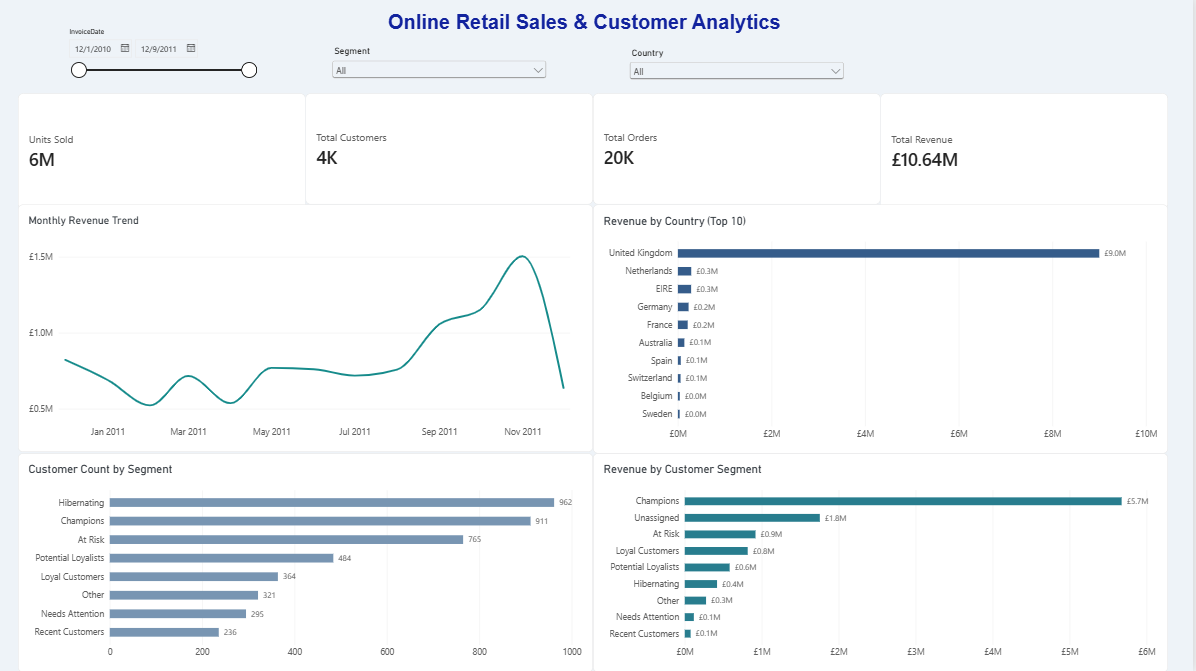

The page's visual inventory and layout, read from the dashboard file:
{"tool":"powerbi","page":{"name":"Page 1","canvas":[1920,1080],"ordinal":0},"visuals":[{"type":"cardVisual","fields":{"Data":["sales_clean.Total Revenue"]},"box":[1420,154,460,186],"z":0},{"type":"cardVisual","fields":{"Data":["sales_clean.Units Sold"]},"box":[40,154,460,186],"z":1000},{"type":"cardVisual","fields":{"Data":["sales_clean.Total Orders"]},"box":[960,154,460,178],"z":2000},{"type":"cardVisual","fields":{"Data":["sales_clean.Total Customers"]},"box":[500,154,460,178],"z":3000},{"type":"lineChart","title":"Monthly Revenue Trend","fields":{"Category":["sales_clean.InvoiceDate.Variation.Date Hierarchy.Year","sales_clean.InvoiceDate.Variation.Date Hierarchy.Month"],"Y":["sales_clean.Total Revenue"]},"box":[40,332,920,396],"z":4000},{"type":"clusteredBarChart","title":"Revenue by Country (Top 10)","fields":{"Category":["sales_clean.Country"],"Y":["sales_clean.Total Revenue"]},"box":[960,332,920,398],"z":5000},{"type":"clusteredBarChart","title":"Customer Count by Segment","fields":{"Category":["customer_rfm.Segment"],"Y":["sales_clean.Customer Count (Filtered)"]},"box":[40,730,920,350],"z":6000},{"type":"clusteredBarChart","title":"Revenue by Customer Segment","fields":{"Category":["sales_clean.Customer Segment"],"Y":["sales_clean.Total Revenue"]},"box":[960,730,920,350],"z":7000},{"type":"textbox","box":[100,0,12,22],"z":8000},{"type":"textbox","box":[576,22,740,132],"z":9000},{"type":"slicer","fields":{"Values":["sales_clean.Country"]},"box":[1014,80,352,62],"z":10000},{"type":"slicer","fields":{"Values":["rfm_segment_summary.Segment"]},"box":[538,78,352,68],"z":11000},{"type":"slicer","fields":{"Values":["sales_clean.InvoiceDate"]},"box":[114,48,312,98],"z":12000}]}

Visuals, with their boxes in screenshot pixels (x1, y1, x2, y2), scaled from the page's 1920x1080 canvas onto the 1196x671 screenshot:
cardVisual - sales_clean.Total Revenue: crop(885, 96, 1171, 211)
cardVisual - sales_clean.Units Sold: crop(25, 96, 311, 211)
cardVisual - sales_clean.Total Orders: crop(598, 96, 885, 206)
cardVisual - sales_clean.Total Customers: crop(311, 96, 598, 206)
"Monthly Revenue Trend" lineChart: crop(25, 206, 598, 452)
"Revenue by Country (Top 10)" clusteredBarChart: crop(598, 206, 1171, 454)
"Customer Count by Segment" clusteredBarChart: crop(25, 454, 598, 670)
"Revenue by Customer Segment" clusteredBarChart: crop(598, 454, 1171, 670)
textbox: crop(62, 0, 70, 14)
textbox: crop(359, 14, 820, 96)
slicer - sales_clean.Country: crop(632, 50, 851, 88)
slicer - rfm_segment_summary.Segment: crop(335, 48, 554, 91)
slicer - sales_clean.InvoiceDate: crop(71, 30, 265, 91)
